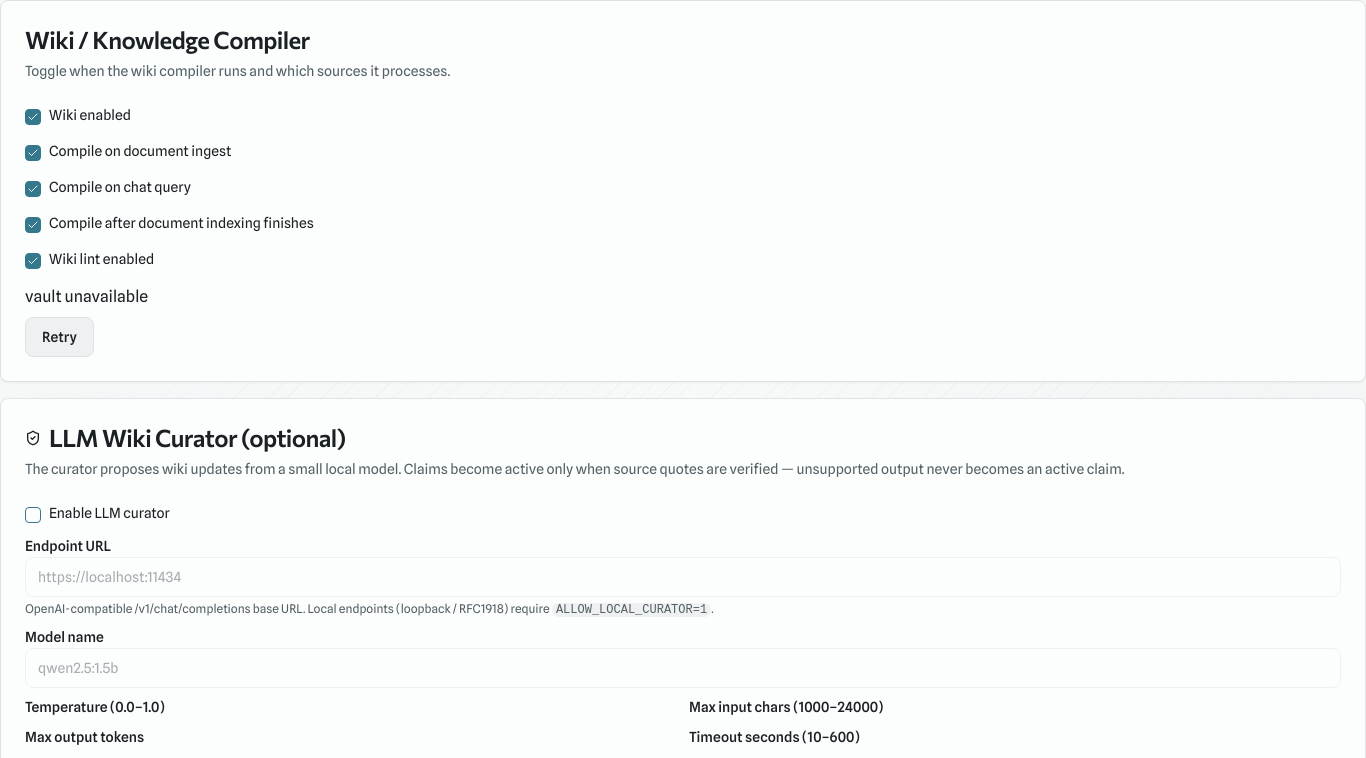
it: WikiCuratorSettings issue #775 lifecycle › recovers a malformed or failed enrichment read through Retry
Expected: the text "vault unavailable" is shown, [25,287,148,306]
Click the button "Retry".
click(59, 337)  # box [25,317,94,357]
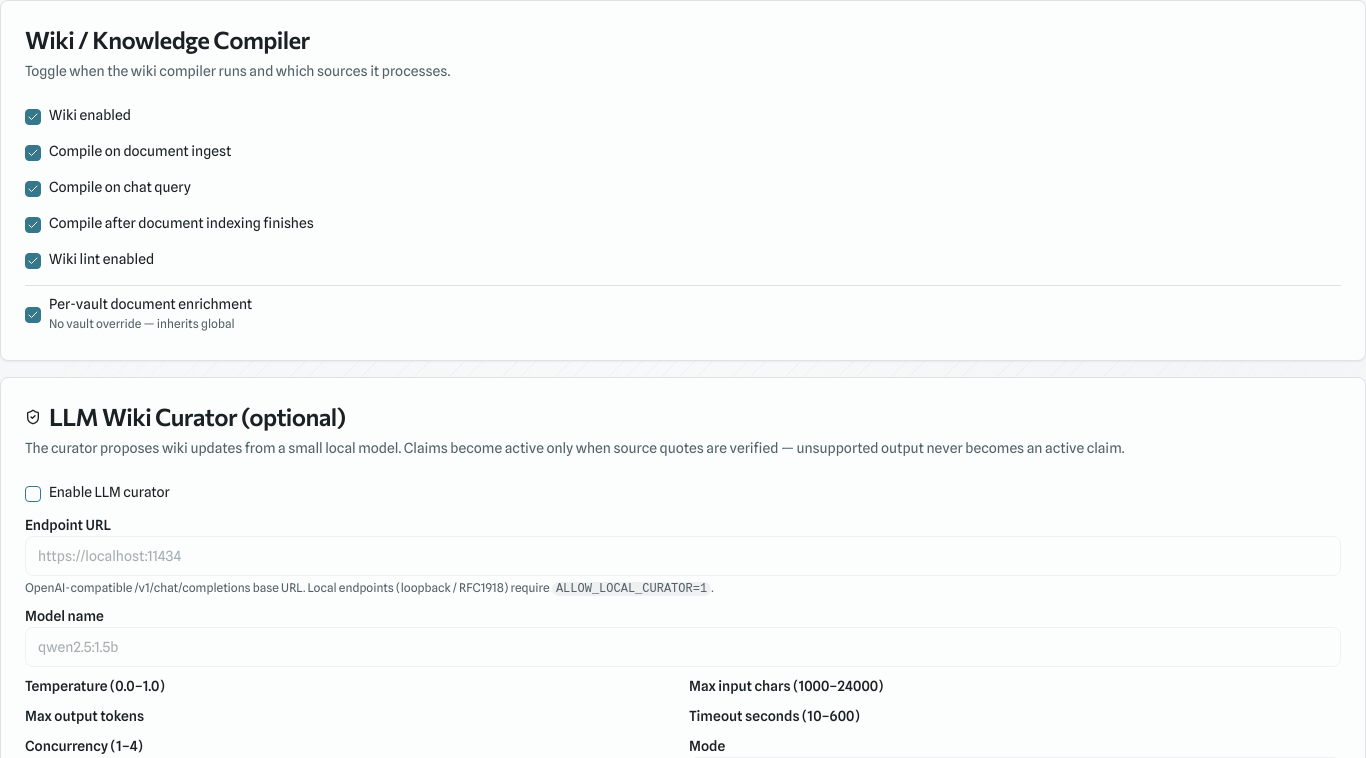
Expected: the checkbox named "Per-vault document enrichment" next to "Per-vault document enrichment" is checked, [25,307,41,323]
